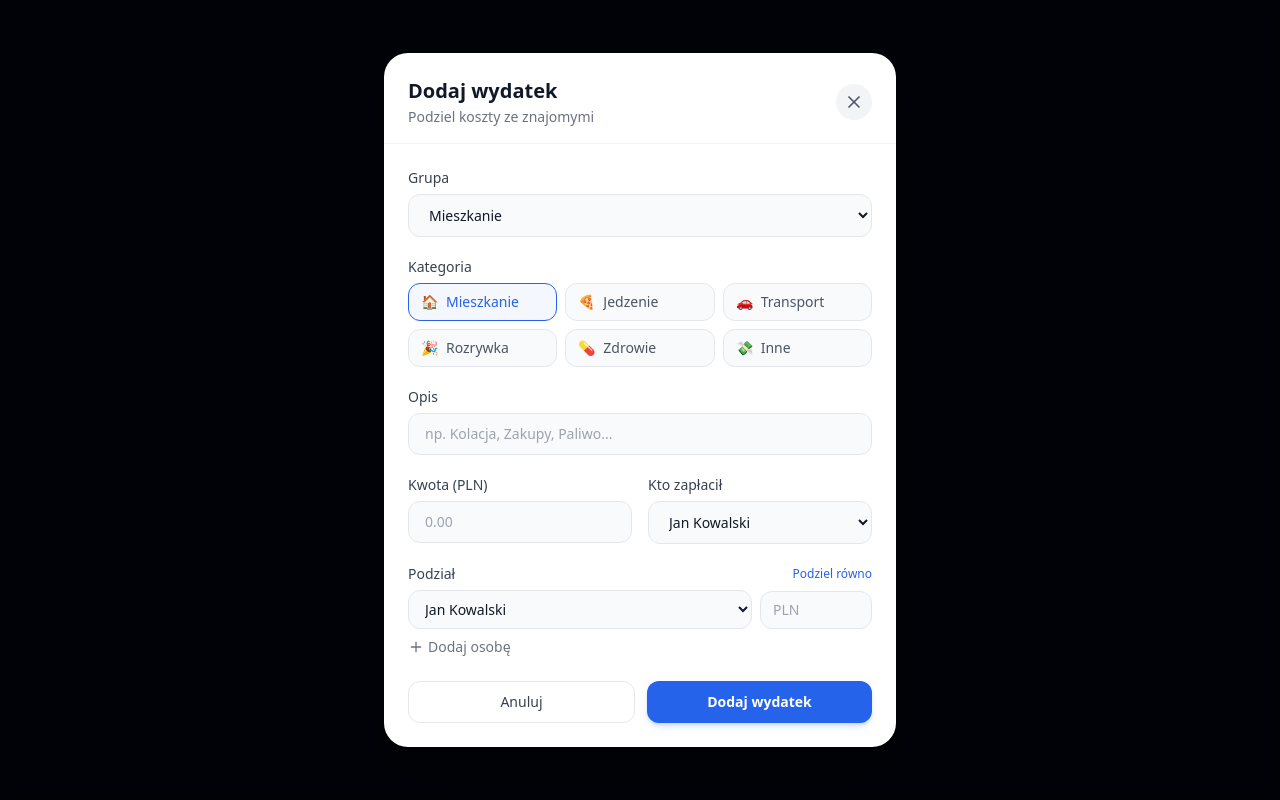
AddExpenseModal › shows validation error when submitting empty form
Click the button "Dodaj wydatek" at (760, 702), box [647,681,872,723]
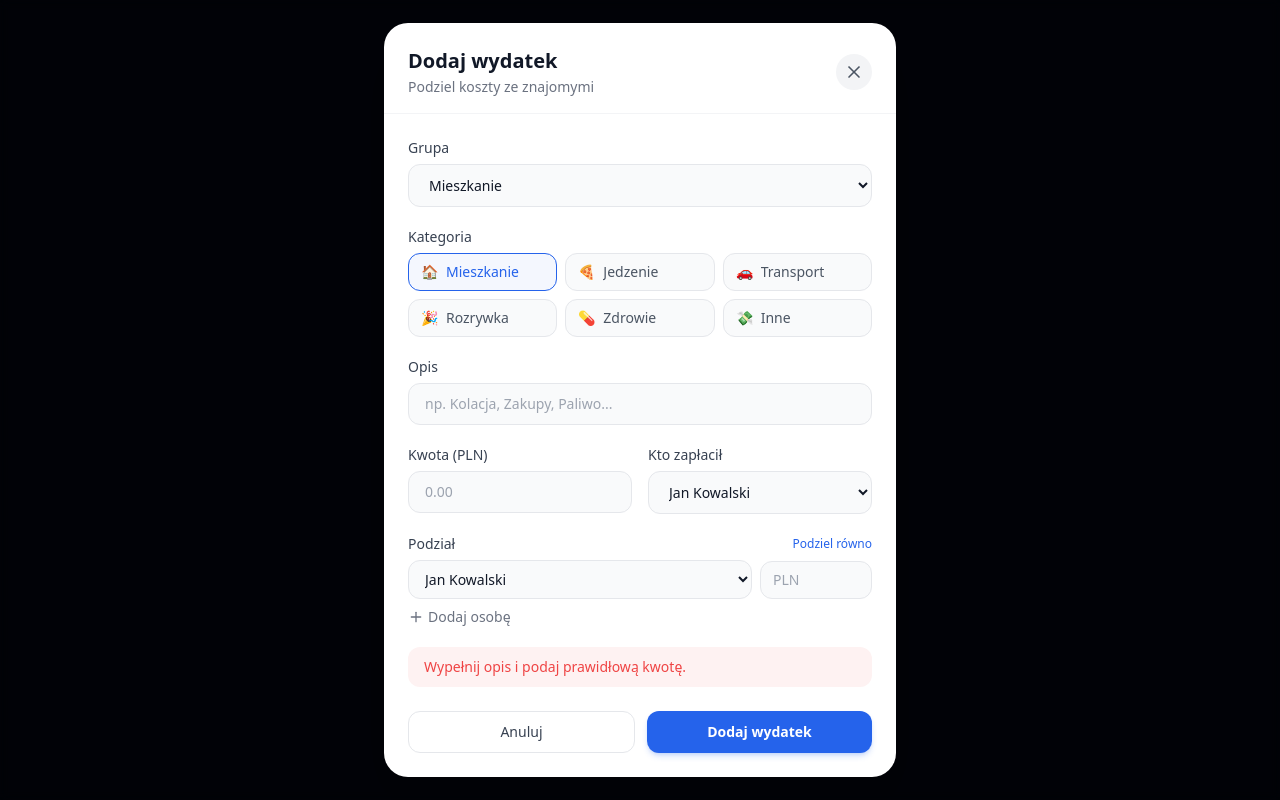
expect the text "Wypełnij opis i podaj prawidłową kwotę." is shown: met, box [408,647,872,687]
